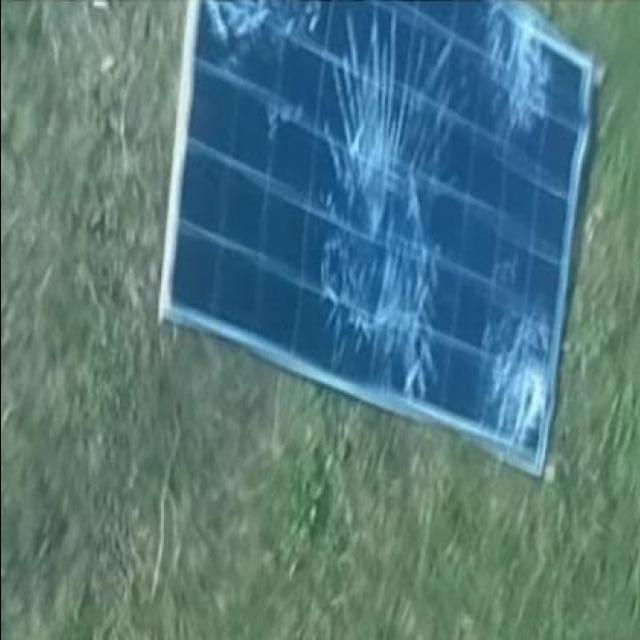cracked: (155, 0, 601, 476)
